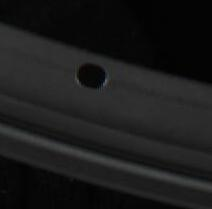holes: (75, 60, 108, 89)
